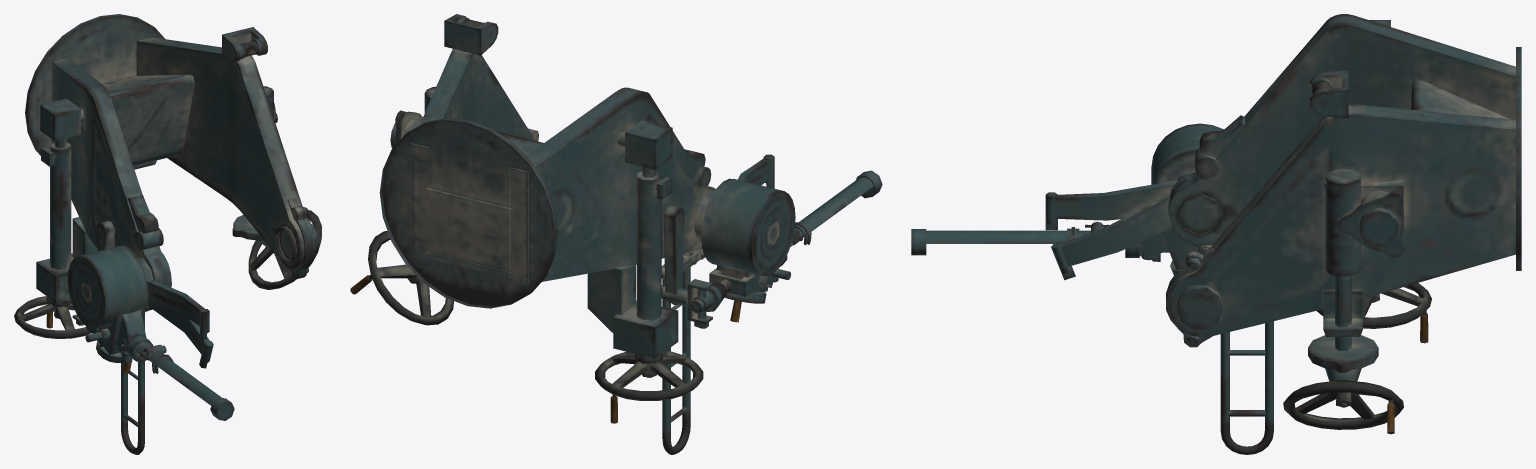
The model's file is Turret_01.glb.
The picture shows the model from 3 angles, left to right: view 1: azimuth 30°, elevation 25°; view 2: azimuth 150°, elevation 25°; view 3: azimuth 270°, elevation 25°; orthographic projection. The views are drawn at different scales.
Parts seen in each view (by area): view 1: set_0_group_0; view 2: set_0_group_0; view 3: set_0_group_0.
Boxes of the visible parts, left/top/right/bottom form: set_0_group_0: left=14, top=14, right=321, bottom=454; set_0_group_0: left=350, top=14, right=882, bottom=454; set_0_group_0: left=911, top=14, right=1521, bottom=454.
Size of the model in its own units: 0.9453 by 1.1 by 1.31.
Materials: 1 (1 with a texture image).
